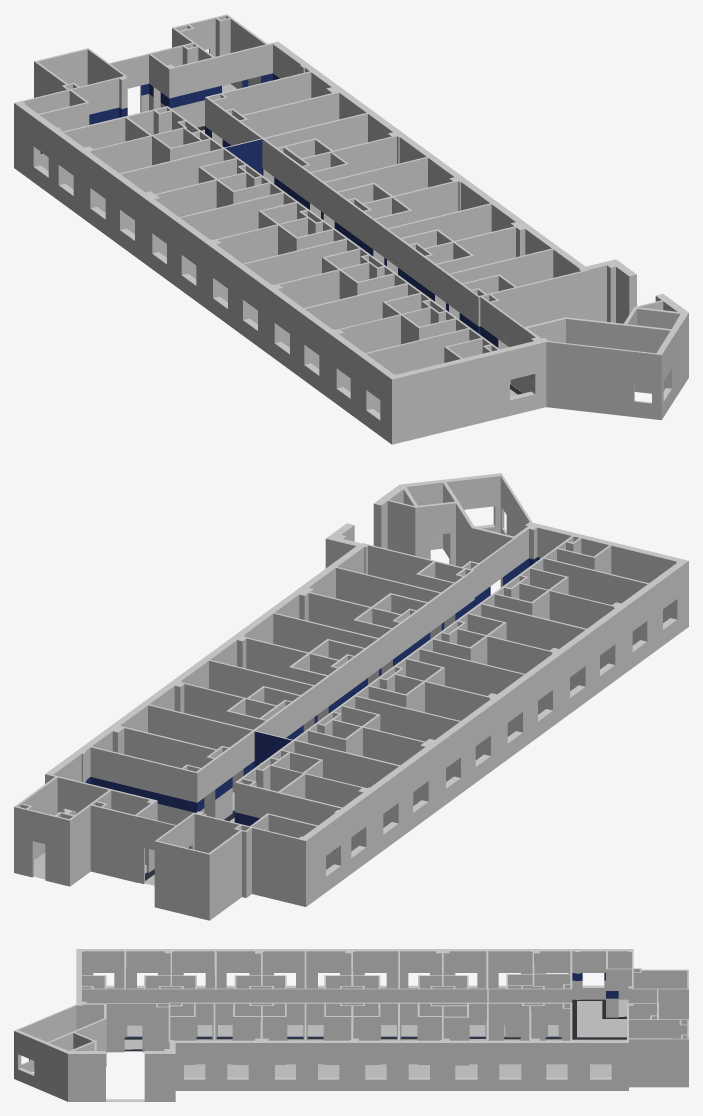
Rendered from Palata1_3dFloor.fbx.
3 views of the same model, one above another, from view 1: azimuth 30°, elevation 25°; view 2: azimuth 150°, elevation 25°; view 3: azimuth 270°, elevation 25° (orthographic). The views are drawn at different scales.
Parts seen in each view (by area): view 1: Plane; view 2: Plane; view 3: Plane.
Part boxes in pixels (<box>): Plane: <box>14,14,688,444</box>; Plane: <box>14,473,688,920</box>; Plane: <box>14,949,688,1101</box>.
Size of the model in its own units: 1963 by 420 by 5343.
